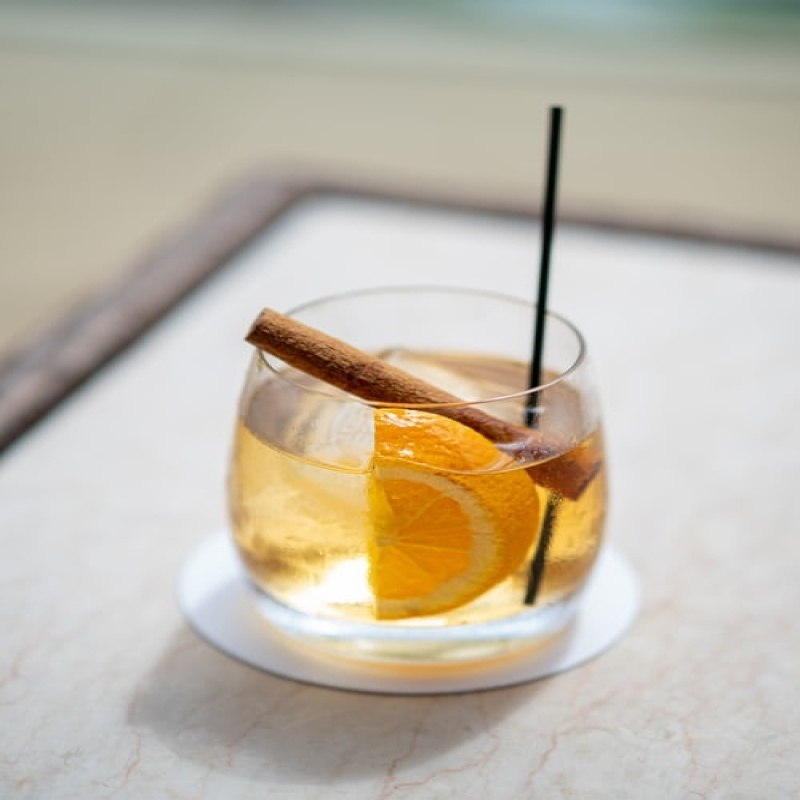whiskey: (232, 296, 612, 664)
